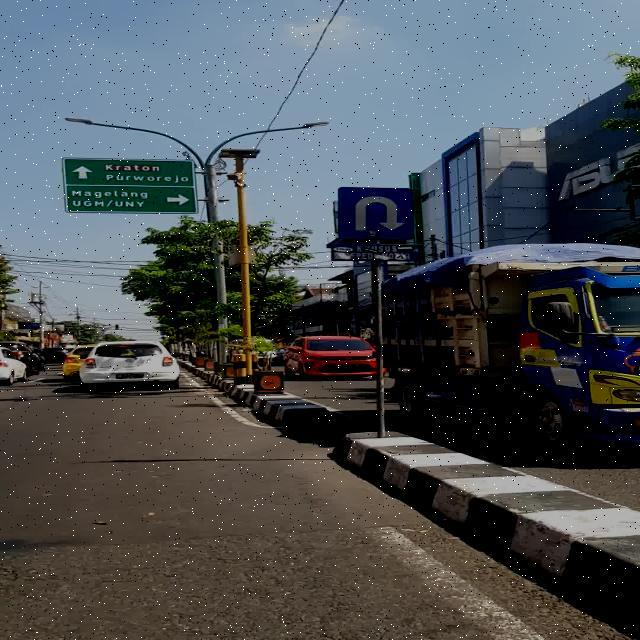Putar Balik: (338, 187, 414, 239)
